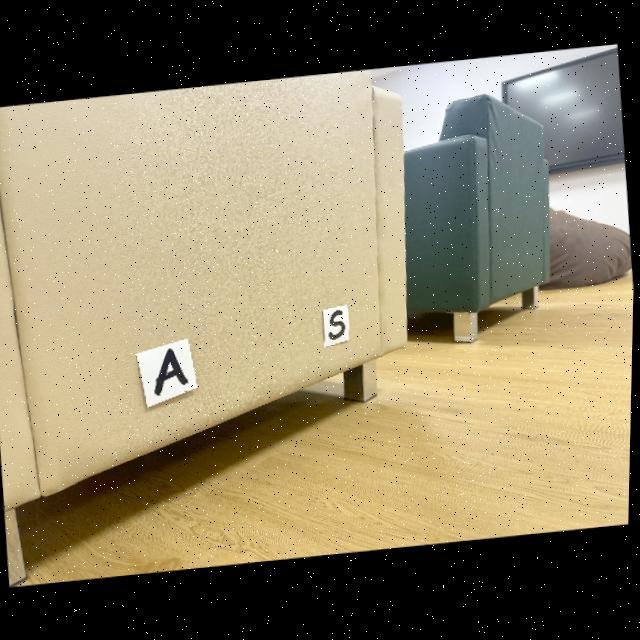A: (156, 349, 189, 395)
S: (330, 311, 347, 341)
